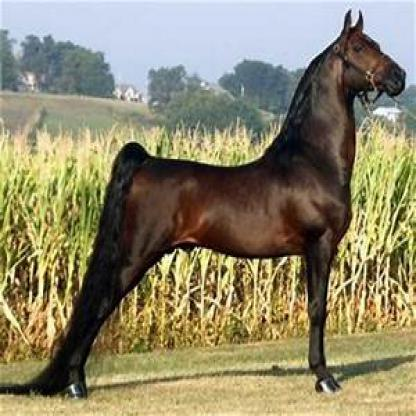horse: (52, 10, 406, 398)
